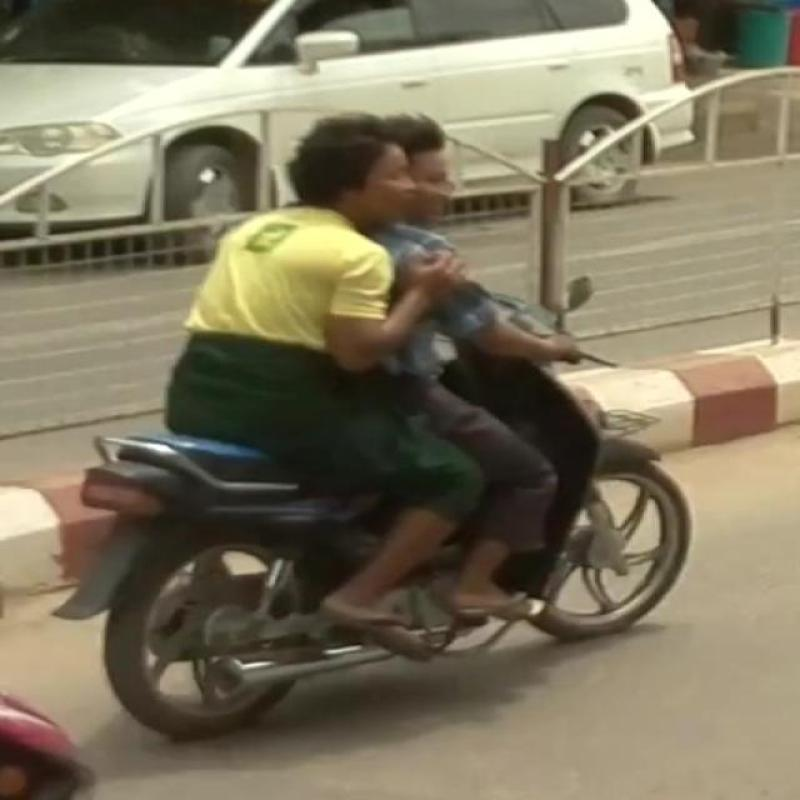nohelmet: (282, 110, 416, 240)
